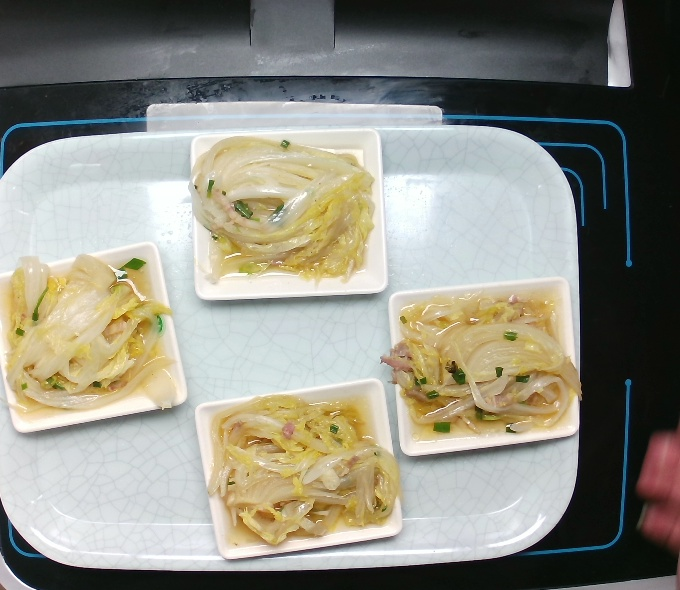wcq-DaBaiCaiRouMou: (379, 290, 585, 441), (206, 391, 404, 547), (184, 130, 377, 286), (3, 249, 183, 414)
